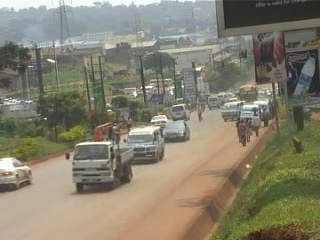Car: (0, 153, 35, 191), (162, 119, 191, 143), (148, 113, 169, 128)
